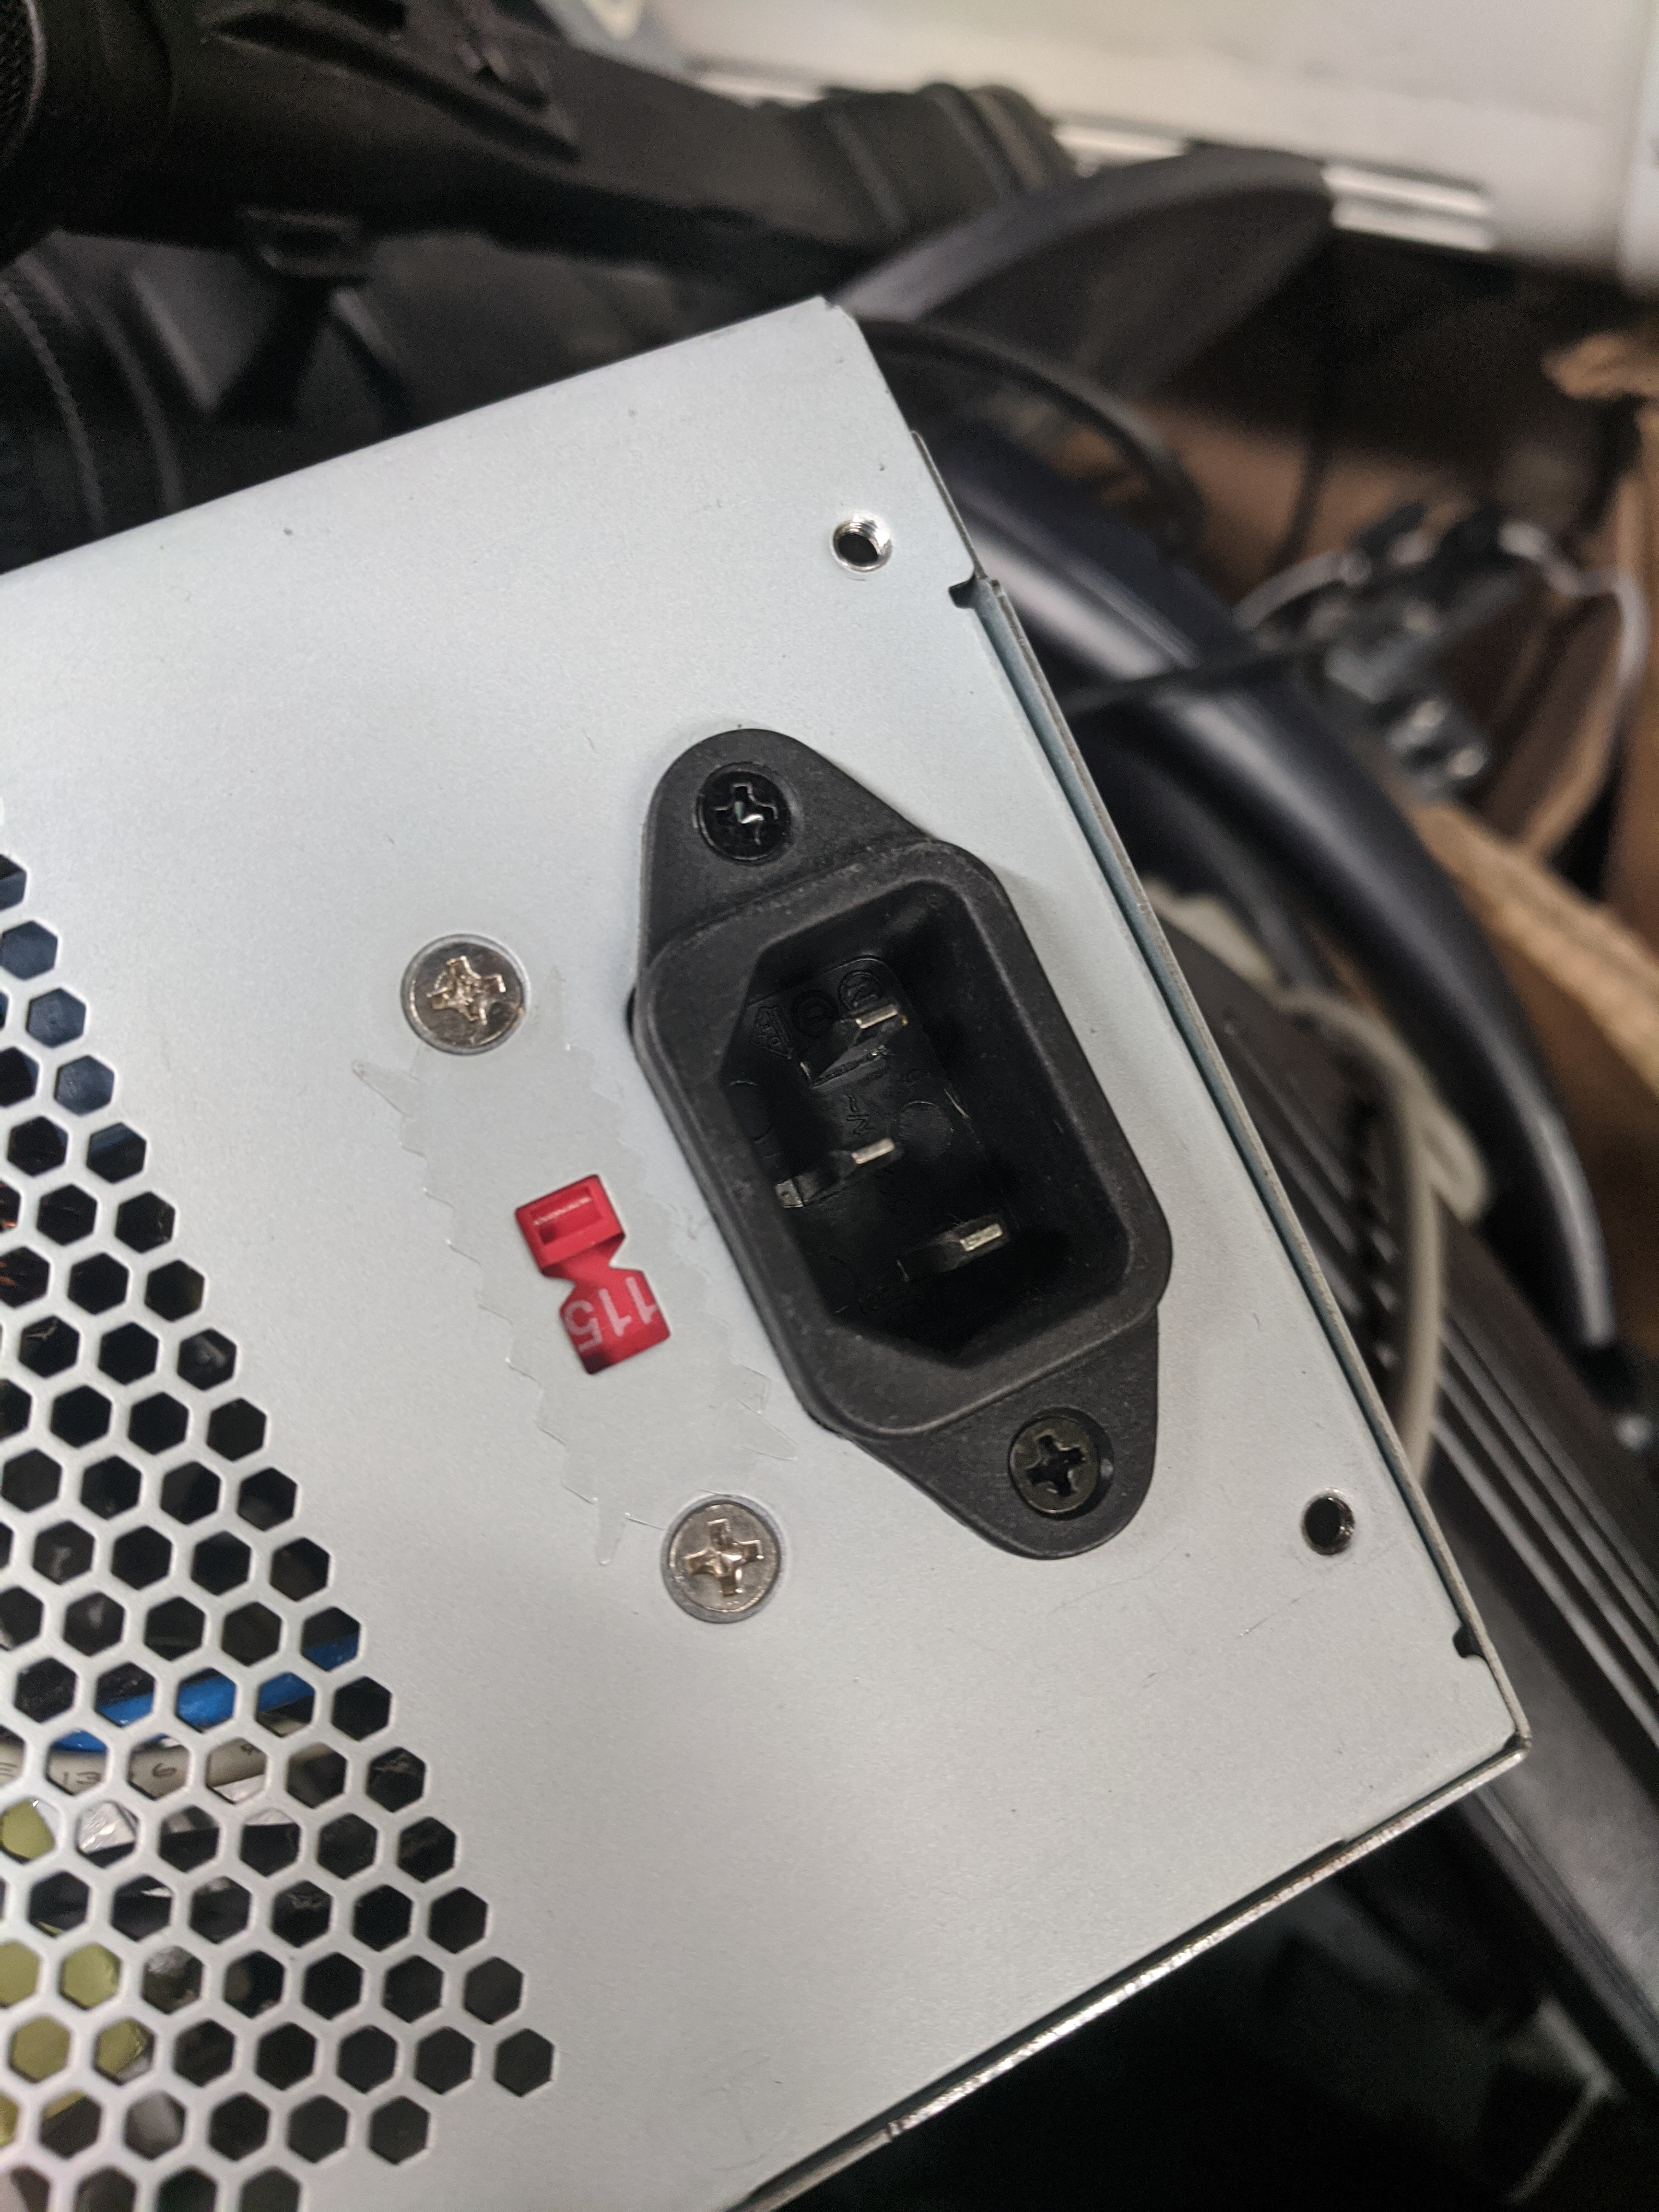cross_recessed_screw: (657, 1479, 781, 1627), (992, 1400, 1114, 1519), (397, 930, 514, 1038), (694, 758, 793, 853)
